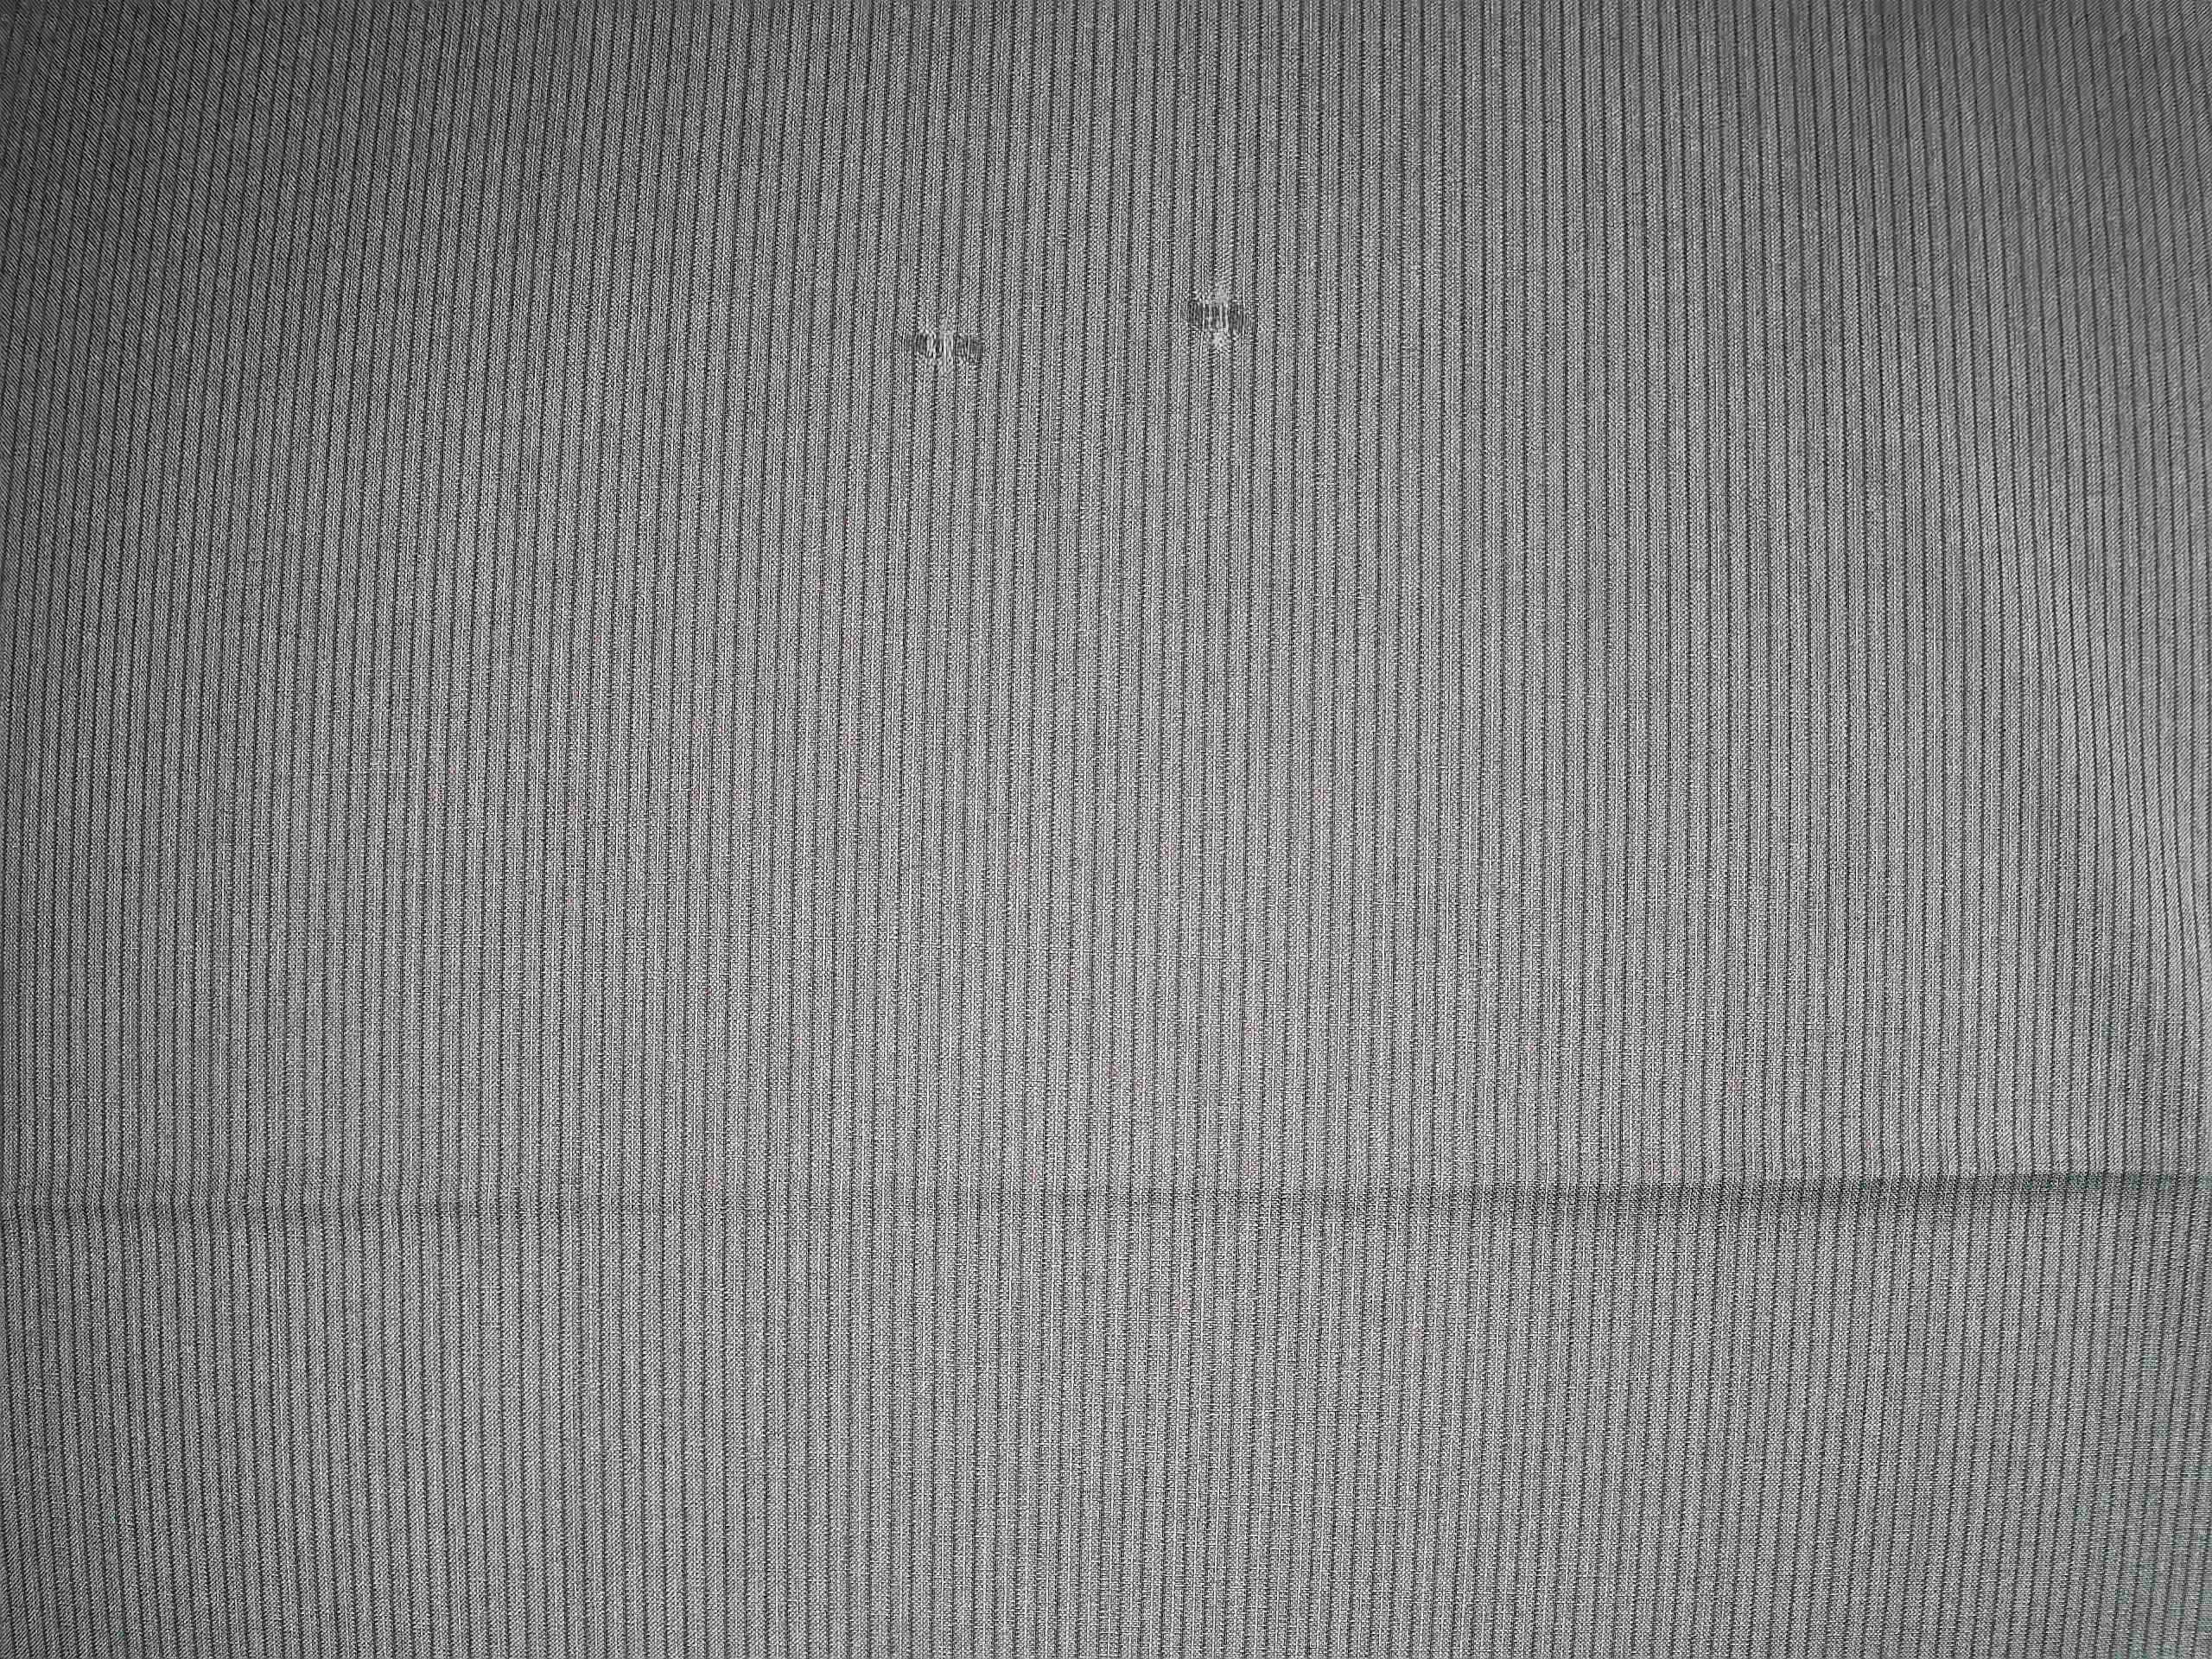chafed: (880, 300, 1000, 385), (1172, 274, 1268, 359)
